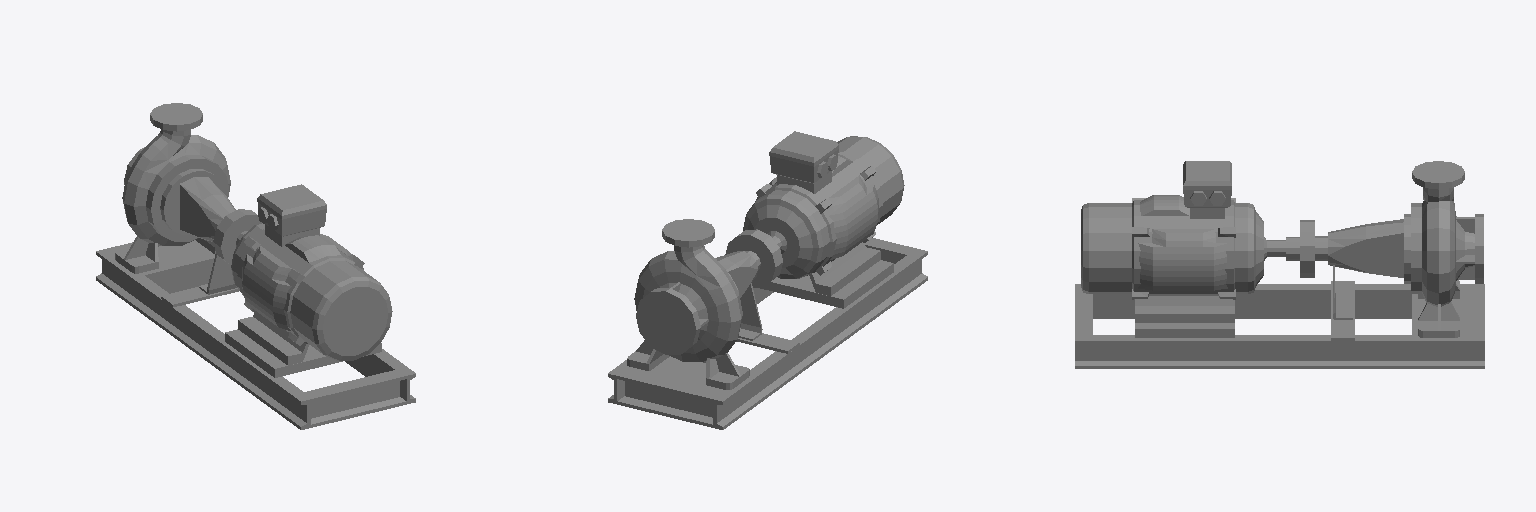
File: pump.obj
3 views of the same model, side by side, from view 1: azimuth 30°, elevation 25°; view 2: azimuth 150°, elevation 25°; view 3: azimuth 270°, elevation 25° (orthographic).
Parts seen in each view (by area): view 1: Pump_PumpMesh.001; view 2: Pump_PumpMesh.001; view 3: Pump_PumpMesh.001.
Boxes of the visible parts, box(x1,y1,x2,y2) form: Pump_PumpMesh.001: box(96, 103, 415, 429); Pump_PumpMesh.001: box(608, 131, 927, 429); Pump_PumpMesh.001: box(1075, 161, 1484, 368).
Bounding box in the file's own units: 0.4831 × 0.6817 × 1.49.